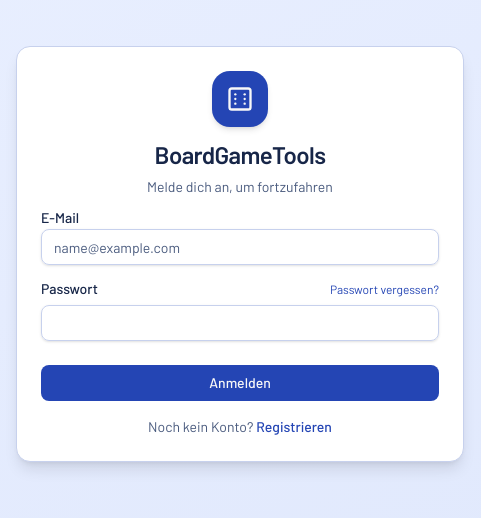
Test: LoginPage › shows error on invalid credentials
In the field with test id "login-email": (240, 247) x1=41 y1=229 x2=439 y2=265, type "test@test.de"
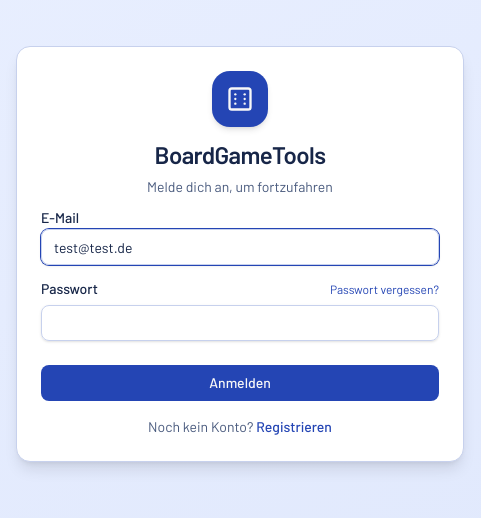
In the password field with test id "login-password": (240, 323) x1=41 y1=305 x2=439 y2=341, type "wrongpass"
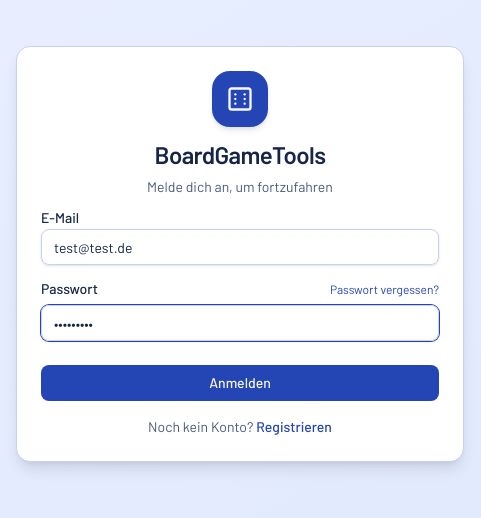
Submit the form with test id "login-form", box x1=17 y1=205 x2=463 y2=461
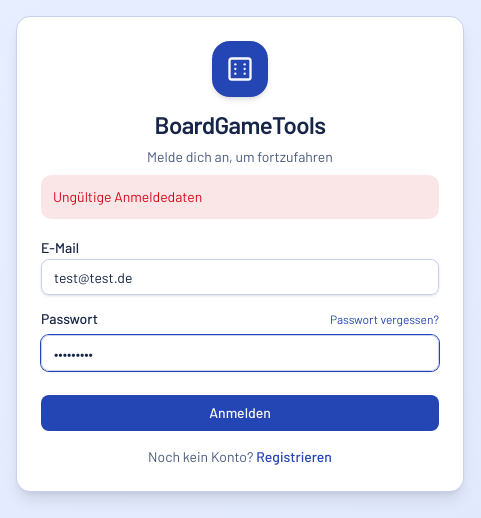
Now the message with test id "login-error" reads "Ungültige Anmeldedaten", box x1=53 y1=188 x2=202 y2=205
